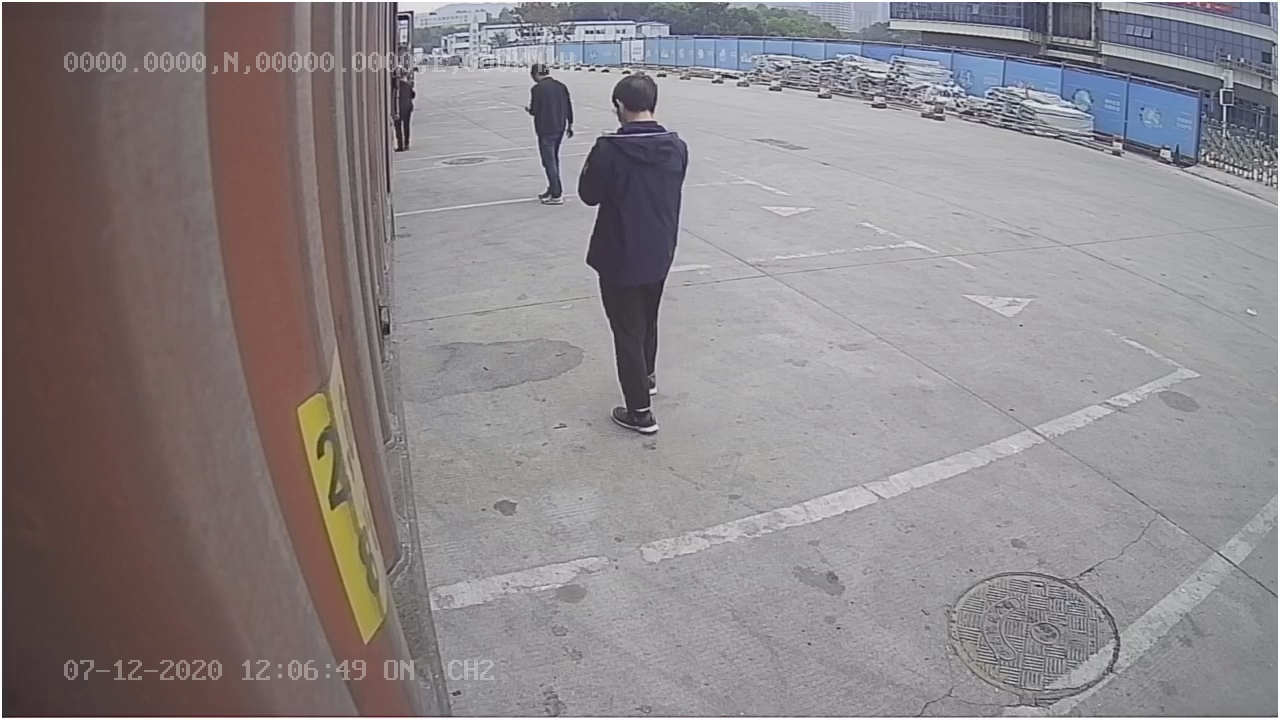person: (574, 69, 690, 437)
